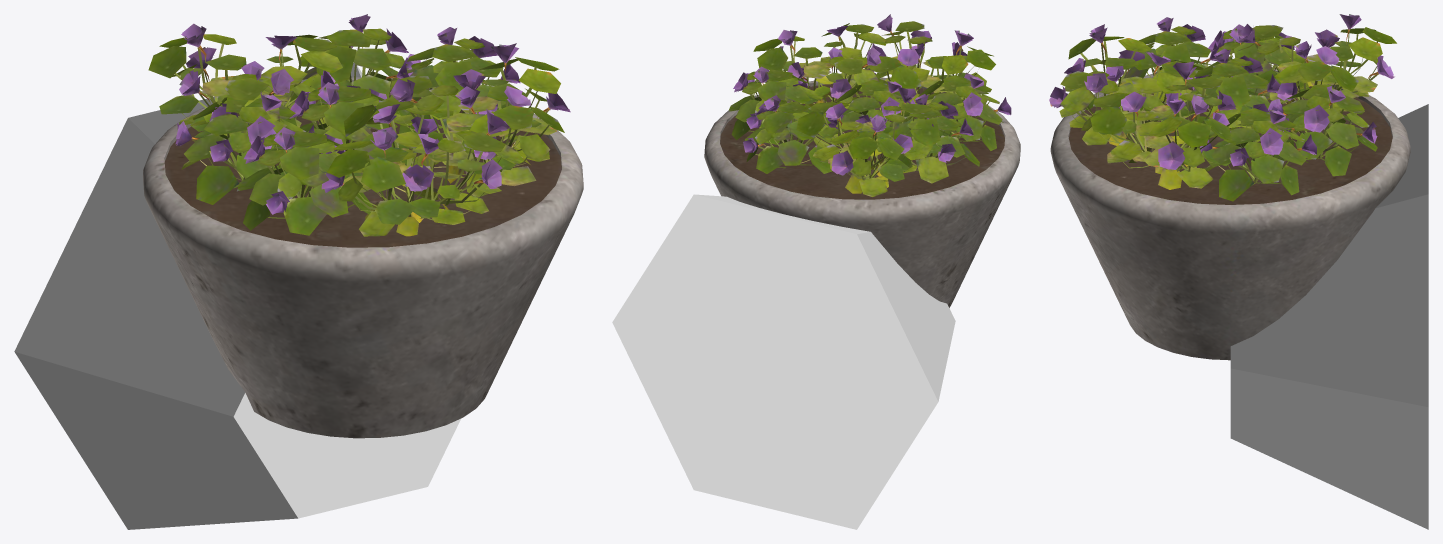
File: SM_Flowerpot_03.fbx
3 views of the same model, side by side, from view 1: azimuth 30°, elevation 25°; view 2: azimuth 150°, elevation 25°; view 3: azimuth 270°, elevation 25° (orthographic). The views are drawn at different scales.
Visible parts, largest first — view 1: SM_Flowerpot_03_LOD0, SM_Flowerpot_03_ConvexHulls; view 2: SM_Flowerpot_03_ConvexHulls, SM_Flowerpot_03_LOD0; view 3: SM_Flowerpot_03_LOD0, SM_Flowerpot_03_ConvexHulls.
Part boxes in pixels (left/top/right/bottom): SM_Flowerpot_03_LOD0: left=142, top=14, right=583, bottom=438; SM_Flowerpot_03_ConvexHulls: left=14, top=63, right=461, bottom=529; SM_Flowerpot_03_ConvexHulls: left=612, top=194, right=955, bottom=529; SM_Flowerpot_03_LOD0: left=704, top=14, right=1020, bottom=307; SM_Flowerpot_03_LOD0: left=1049, top=14, right=1410, bottom=360; SM_Flowerpot_03_ConvexHulls: left=1230, top=104, right=1428, bottom=529.
Bounding box in the file's own units: 113 × 99.96 × 126.
